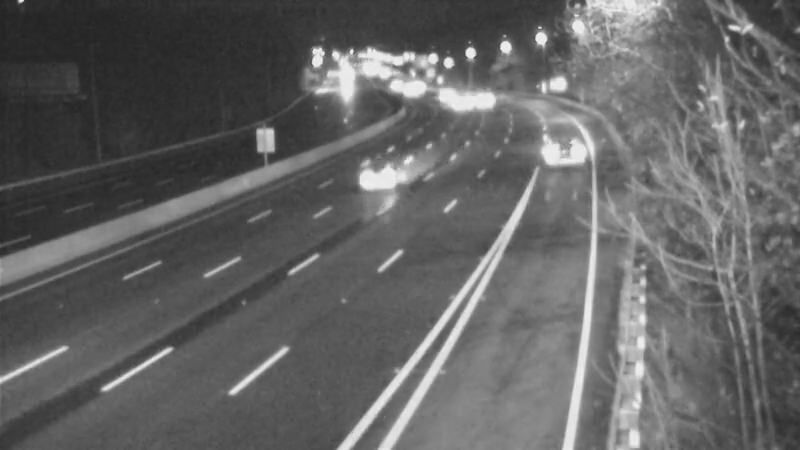vehicle: (527, 111, 607, 191), (336, 134, 416, 214), (371, 60, 421, 110), (391, 72, 441, 122), (421, 71, 471, 121), (463, 75, 513, 125), (436, 80, 486, 130)
